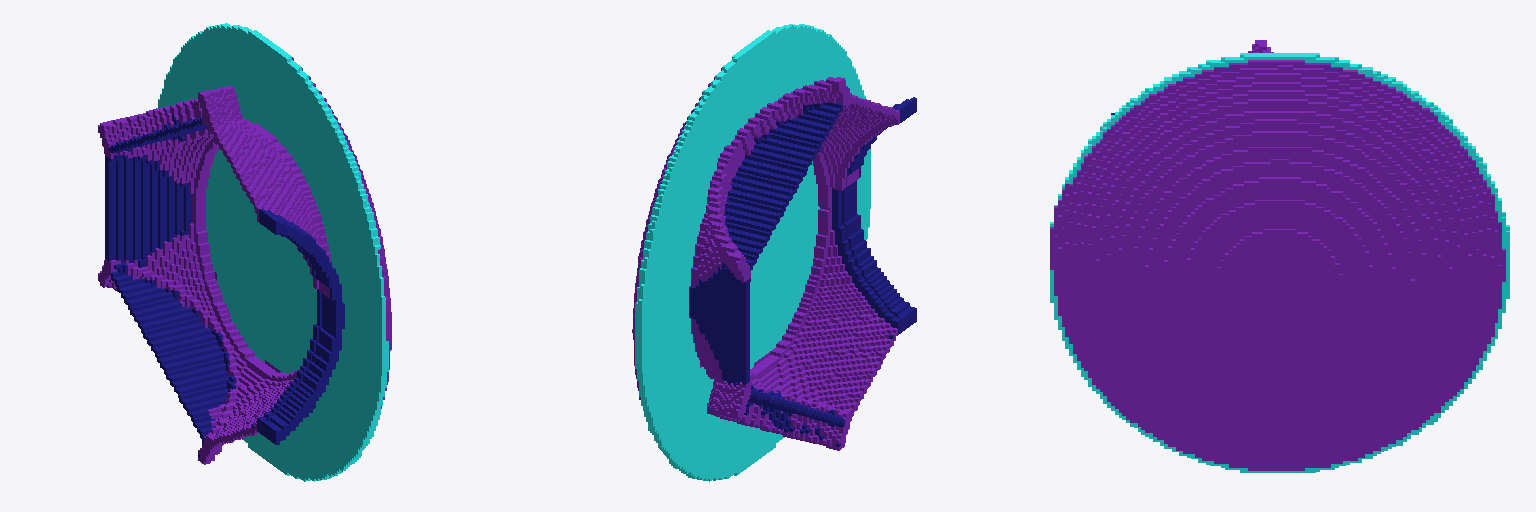
3 renders of one model, left to right at view 1: azimuth 30°, elevation 25°; view 2: azimuth 150°, elevation 25°; view 3: azimuth 270°, elevation 25°, orthographic.
Visible parts, largest first — view 1: object 1; view 2: object 1; view 3: object 1.
Part boxes in pixels (x1,y1,x2,y2): object 1: (98,23,391,481); object 1: (632,24,916,481); object 1: (1050,40,1509,472).
Size of the model in its own units: 3.9 by 12.1 by 12.1.
Materials: 1 (1 with a texture image).